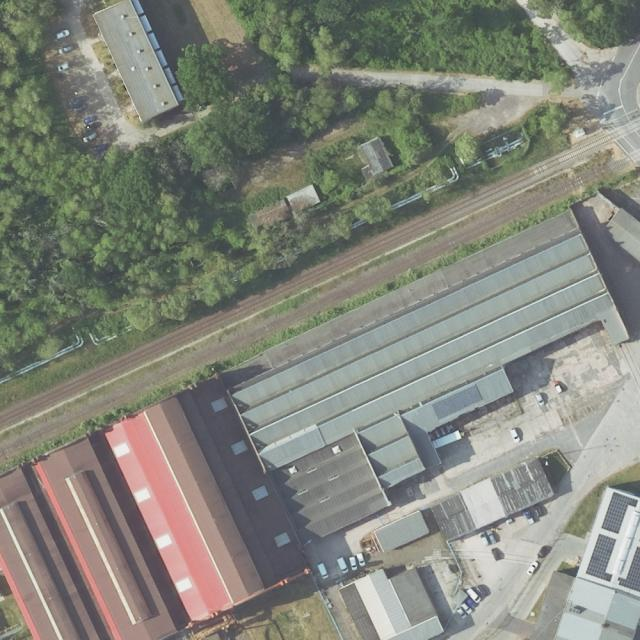PV: (600, 492, 638, 533), (586, 534, 617, 583), (617, 546, 640, 593)
